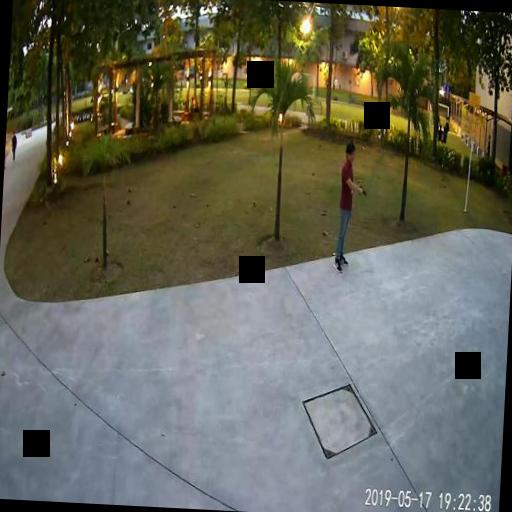Handgun: (356, 184, 366, 196)
